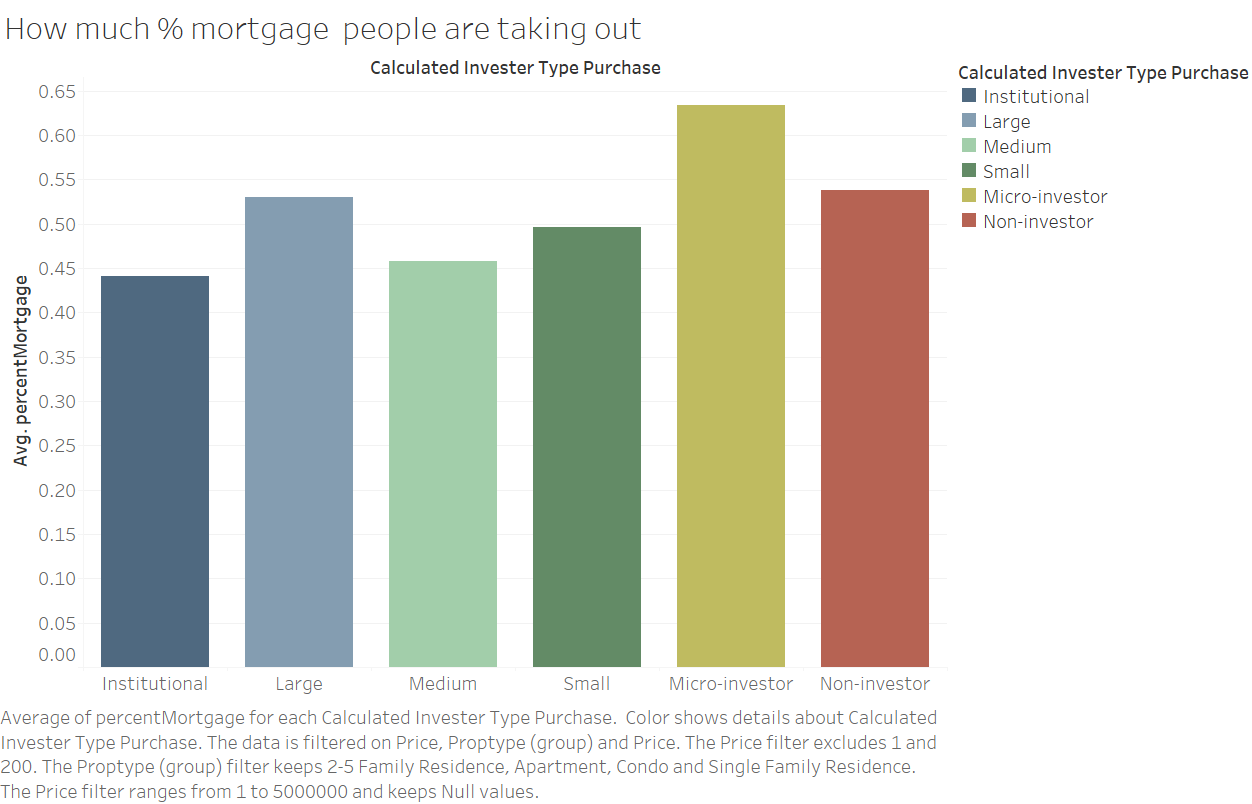

The dashboard page shown, as its layout file describes it:
{"tool":"tableau","page":{"name":"Dashboard 1","canvas":[1000,800],"ordinal":0},"visuals":[{"type":"worksheet","title":"Sheet 2","mark":"Bar","rows":["Year"],"box":[8,8,759.7,784]},{"type":"legend","title":"Sheet 2","param":"[federated.0ll3gzu0fbkppw1ernb2y09t1gbt].[Grouped ages]","box":[767.7,8,224.3,784]}]}

Visuals, with their boxes on the page's 1000x800 design canvas (x1, y1, x2, y2). These are canvas units, not pixel positions in the 1252x804 screenshot, which may show the page scaled, cropped or inside an application window:
"Sheet 2" worksheet (Bar marks): [left=8, top=8, right=768, bottom=792]
"Sheet 2" legend: [left=768, top=8, right=992, bottom=792]
